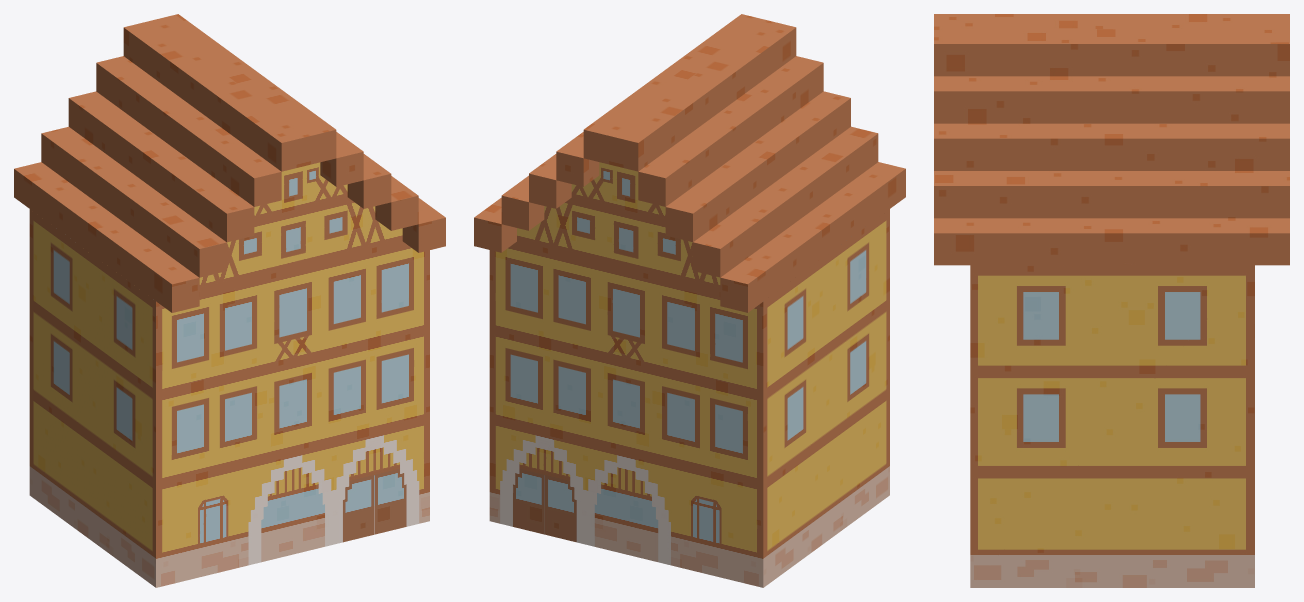
The model's file is bungalow02.FBX.
The picture shows the model from 3 angles, left to right: view 1: azimuth 30°, elevation 25°; view 2: azimuth 150°, elevation 25°; view 3: azimuth 270°, elevation 25°; orthographic projection. The views are drawn at different scales.
Visible parts, largest first — view 1: Box004, Box005; view 2: Box004, Box005; view 3: Box004, Box005.
Boxes of the visible parts, <box> form: Box004: <box>29,162,429,587</box>; Box005: <box>14,14,445,312</box>; Box004: <box>489,162,889,587</box>; Box005: <box>474,14,905,312</box>; Box004: <box>970,265,1254,587</box>; Box005: <box>934,14,1289,265</box>.
Bounding box in the file's own units: 118 × 177 × 118.
Materials: 1 (1 with a texture image).
